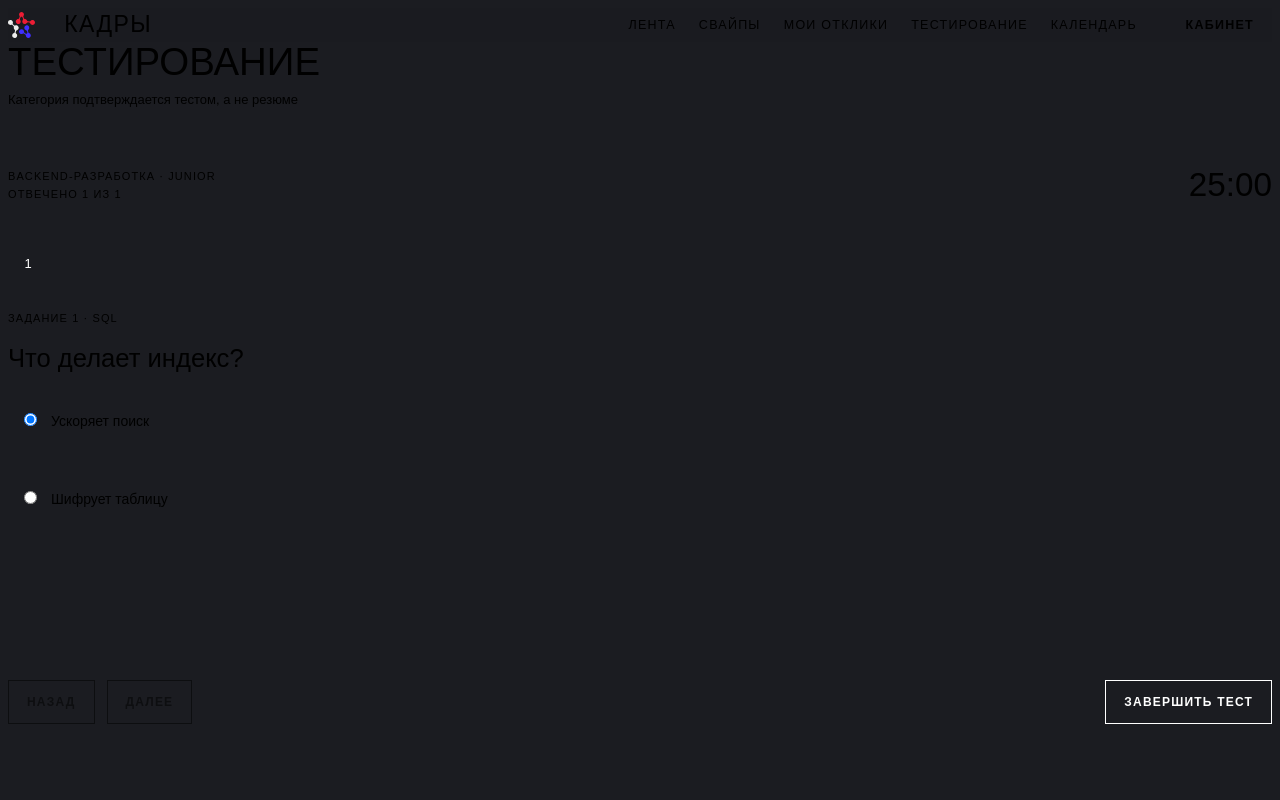
Test: result of a finished attempt › recommends the next grade after a strong result and puts it into the form
Click the button "Завершить тест".
click(1189, 702)  # box [1105, 680, 1272, 724]
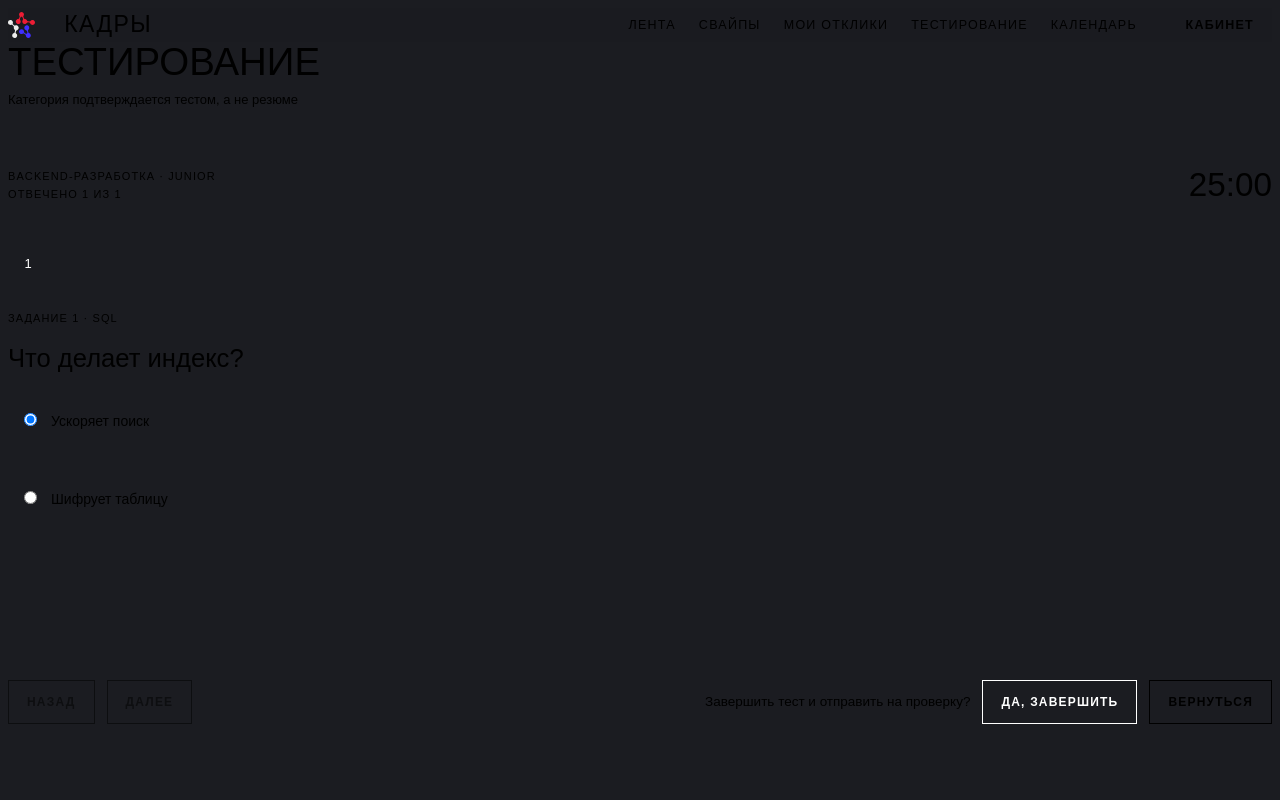
Click the button "Да, завершить".
click(1060, 702)  # box [982, 680, 1138, 724]
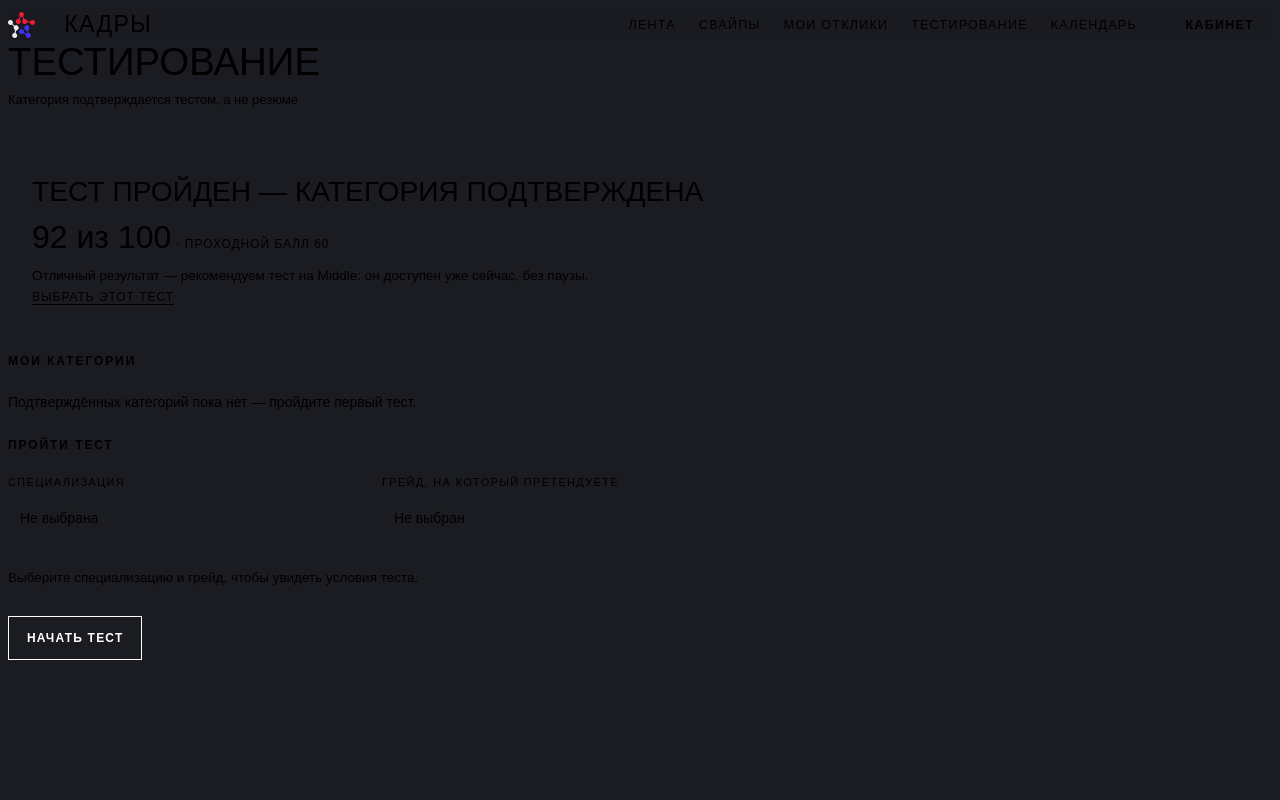
Now the text "Тест пройден — категория подтверждена" is shown, box [32, 176, 703, 208]
Now the text "рекомендуем тест на Middle" is shown, box [32, 265, 603, 308]
Click the button "Выбрать этот тест".
click(103, 297)  # box [32, 290, 174, 304]
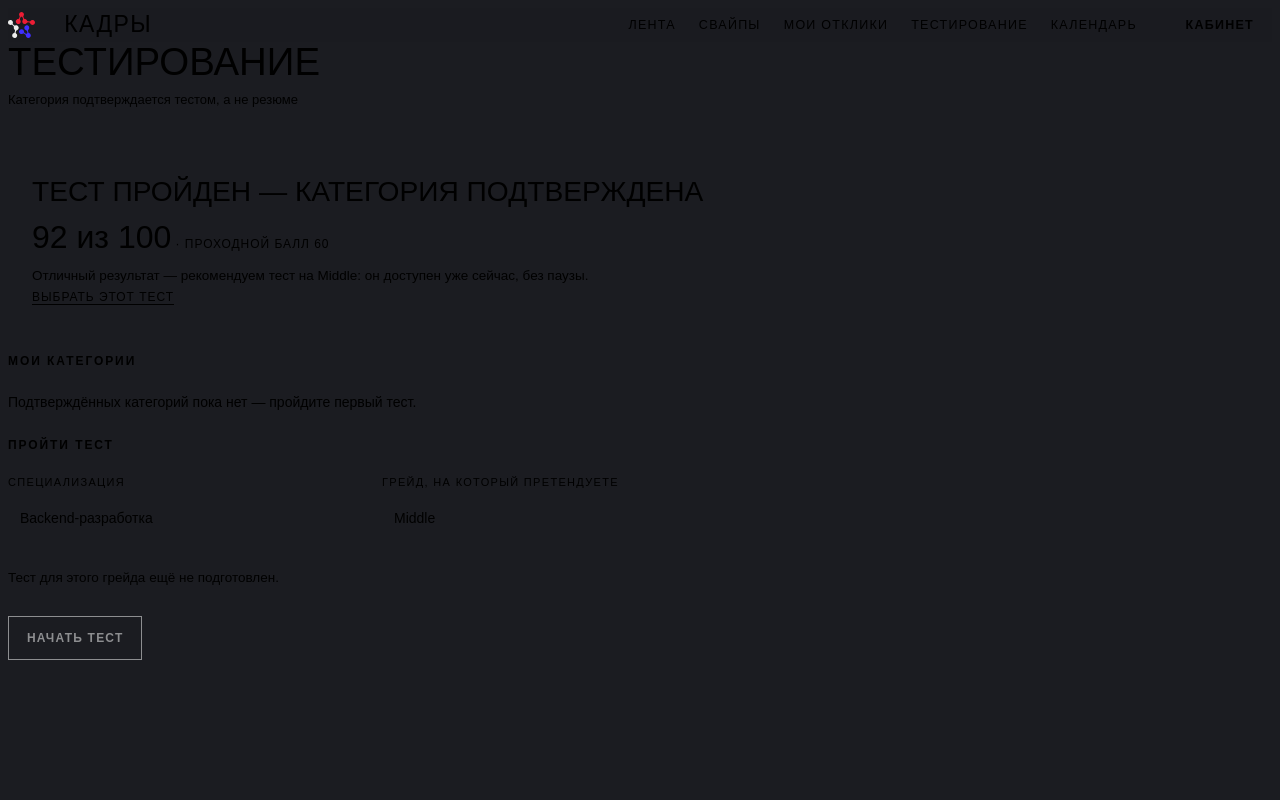
Now the dropdown labelled "Грейд, на который претендуете" shows "Middle", box [382, 496, 728, 540]
Now the dropdown labelled "Специализация" shows "Backend-разработка", box [8, 496, 354, 540]
